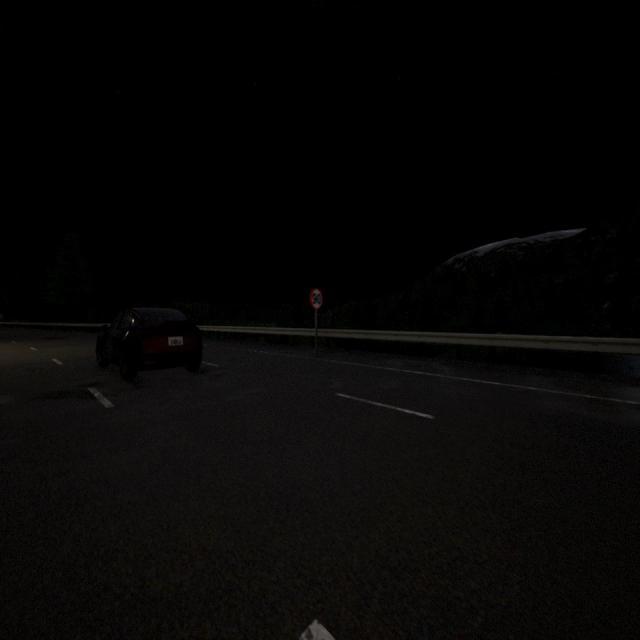Traffic_Signs: (309, 288, 323, 309)
Vehicle: (94, 305, 204, 378)
